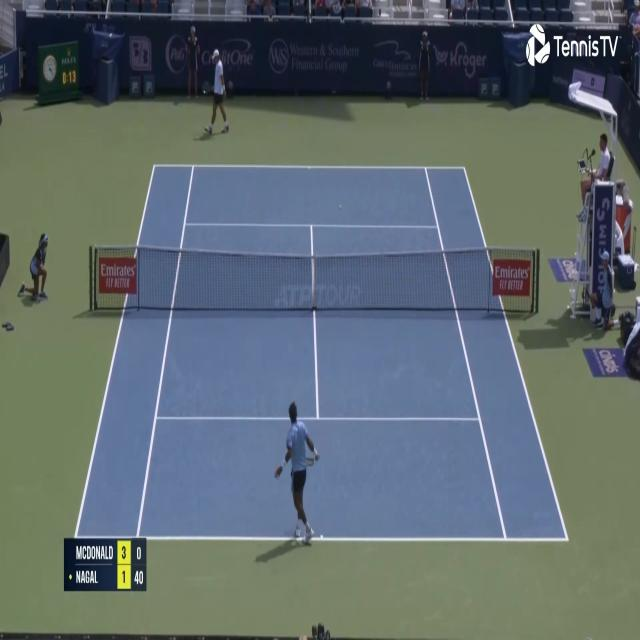tennis-player: (272, 398, 322, 550), (200, 44, 233, 136)
